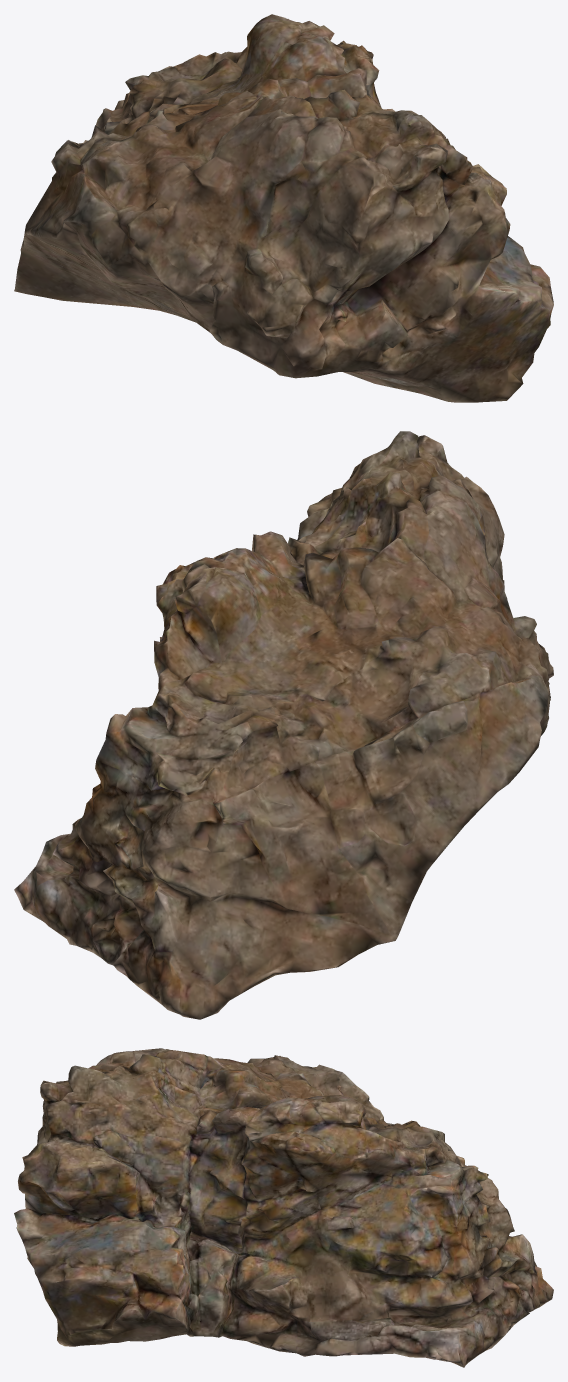
File: boulder_01.glb
3 views of the same model, one above another, from view 1: azimuth 30°, elevation 25°; view 2: azimuth 150°, elevation 25°; view 3: azimuth 270°, elevation 25° (orthographic). The views are drawn at different scales.
Parts seen in each view (by area): view 1: boulder_01; view 2: boulder_01; view 3: boulder_01.
Part boxes in pixels (x1,y1,x2,y2): boulder_01: (14,14,553,402); boulder_01: (14,431,553,1019); boulder_01: (14,1048,553,1367).
Size of the model in its own units: 1.27 by 1 by 1.83.
1 material, 1 textured.
